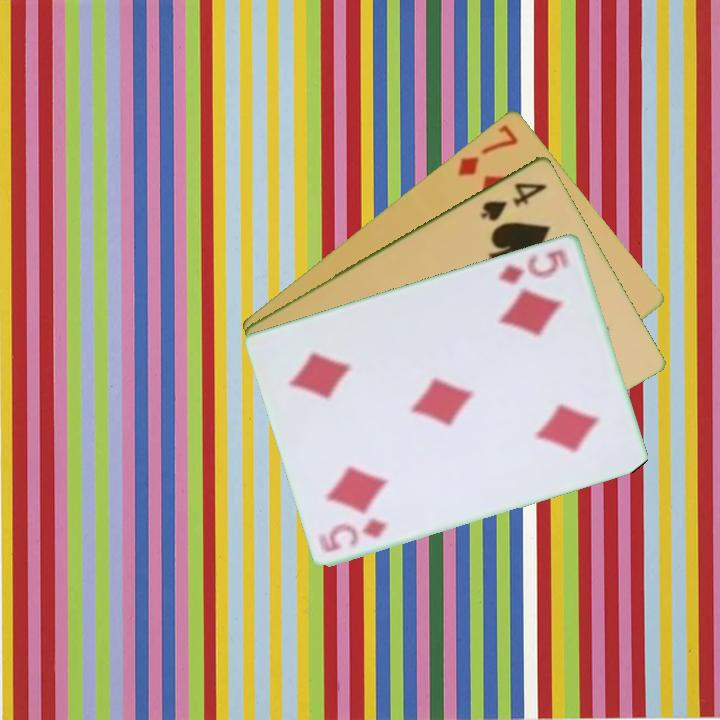4s: (476, 178, 550, 224)
5d: (495, 245, 573, 287), (315, 513, 390, 555)
7d: (454, 120, 521, 179)
